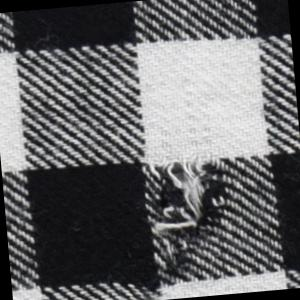Damage: (142, 146, 242, 283)
